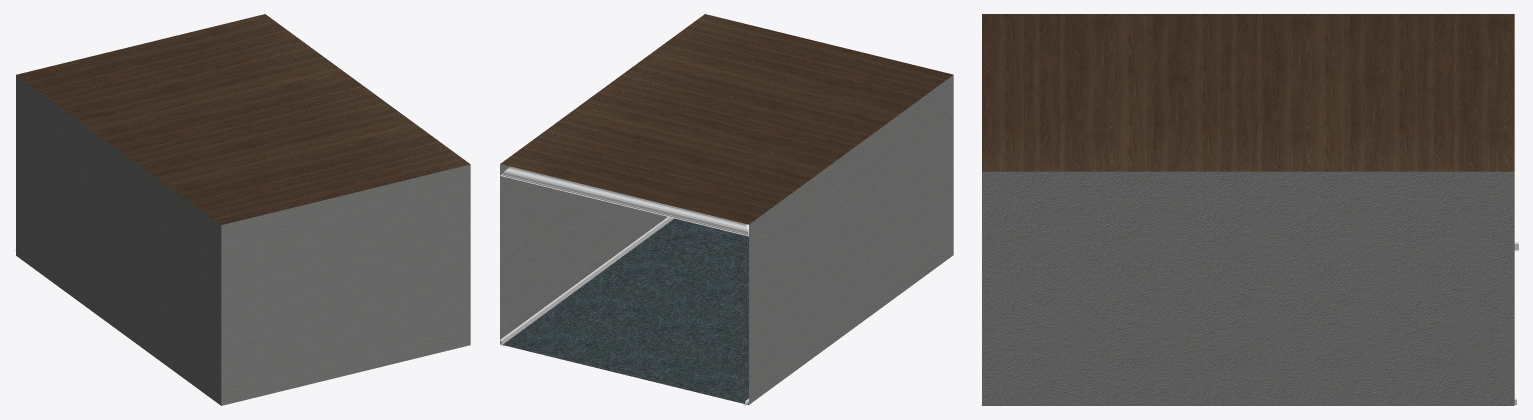
File: building.fbx
The picture shows the model from 3 angles, left to right: view 1: azimuth 30°, elevation 25°; view 2: azimuth 150°, elevation 25°; view 3: azimuth 270°, elevation 25°; orthographic projection. The views are drawn at different scales.
Parts seen in each view (by area): view 1: walls, ceiling; view 2: walls, ceiling, floor, cornice ceiling, cornice floor; view 3: walls, ceiling.
Part boxes in pixels (x1,y1,x2,y2): walls: (16, 75, 470, 405); ceiling: (16, 14, 470, 224); walls: (500, 75, 953, 404); ceiling: (500, 14, 953, 224); floor: (500, 218, 748, 404); cornice ceiling: (500, 166, 748, 236); cornice floor: (499, 217, 748, 405); walls: (982, 171, 1514, 405); ceiling: (982, 14, 1514, 171).
Bounding box in the file's own units: 1924 × 1335 × 2769.
